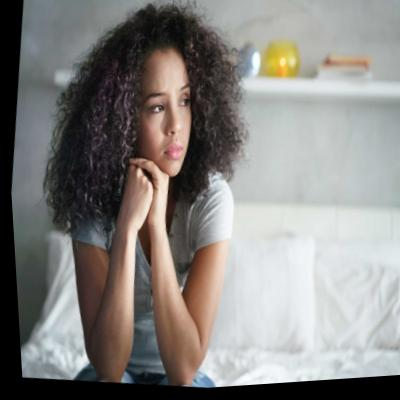sad: (129, 57, 201, 184)
